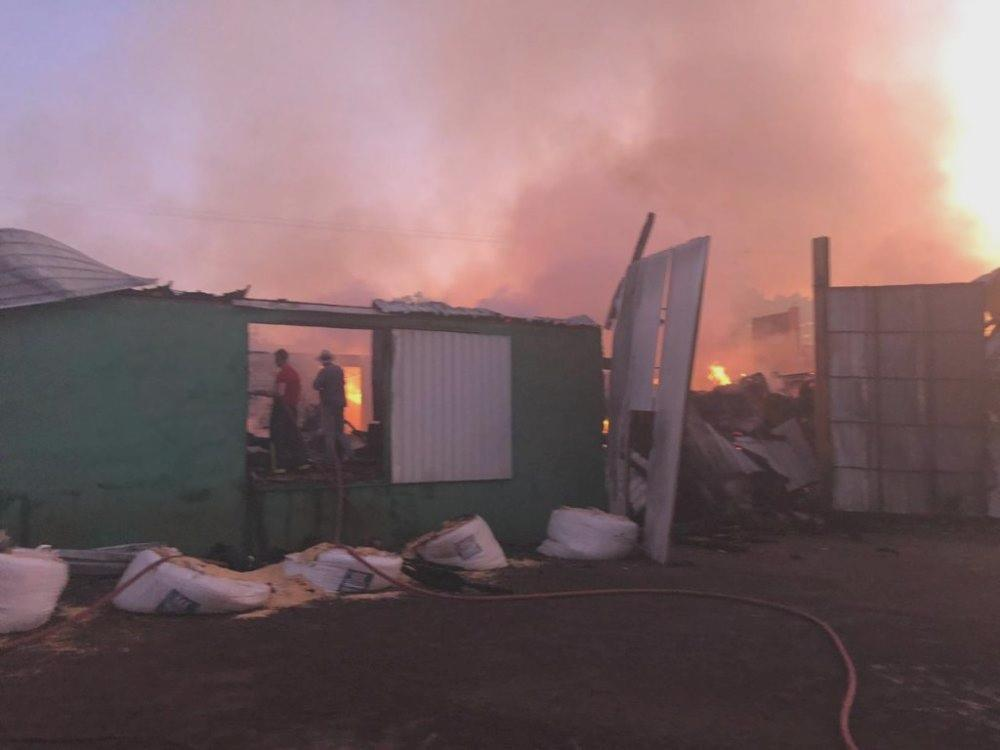Fire: (343, 377, 367, 404), (713, 362, 735, 385)
